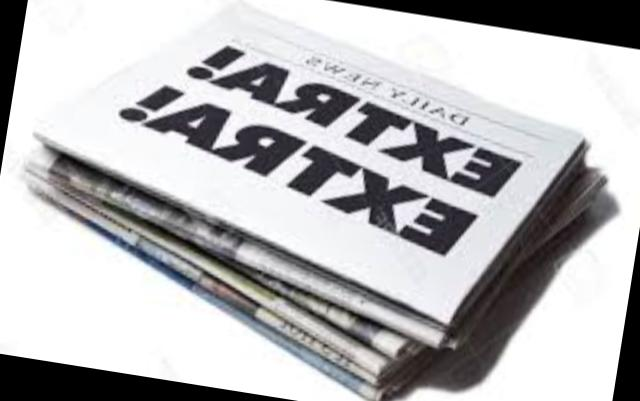cardboard paper: (31, 0, 608, 398)
